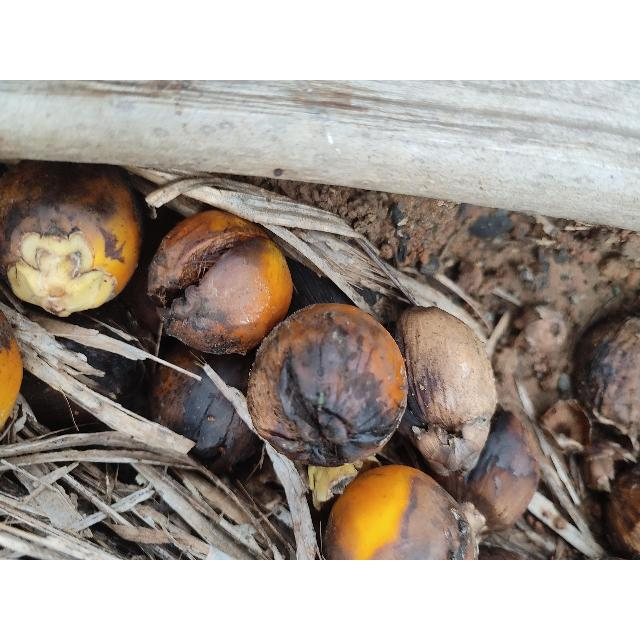damaged: (252, 304, 394, 466), (1, 160, 145, 316), (145, 209, 291, 351), (15, 303, 149, 427), (412, 404, 540, 532), (144, 340, 266, 472), (398, 307, 497, 439), (338, 462, 468, 560), (302, 442, 388, 554), (570, 310, 640, 446), (602, 462, 640, 558), (0, 300, 24, 440)
